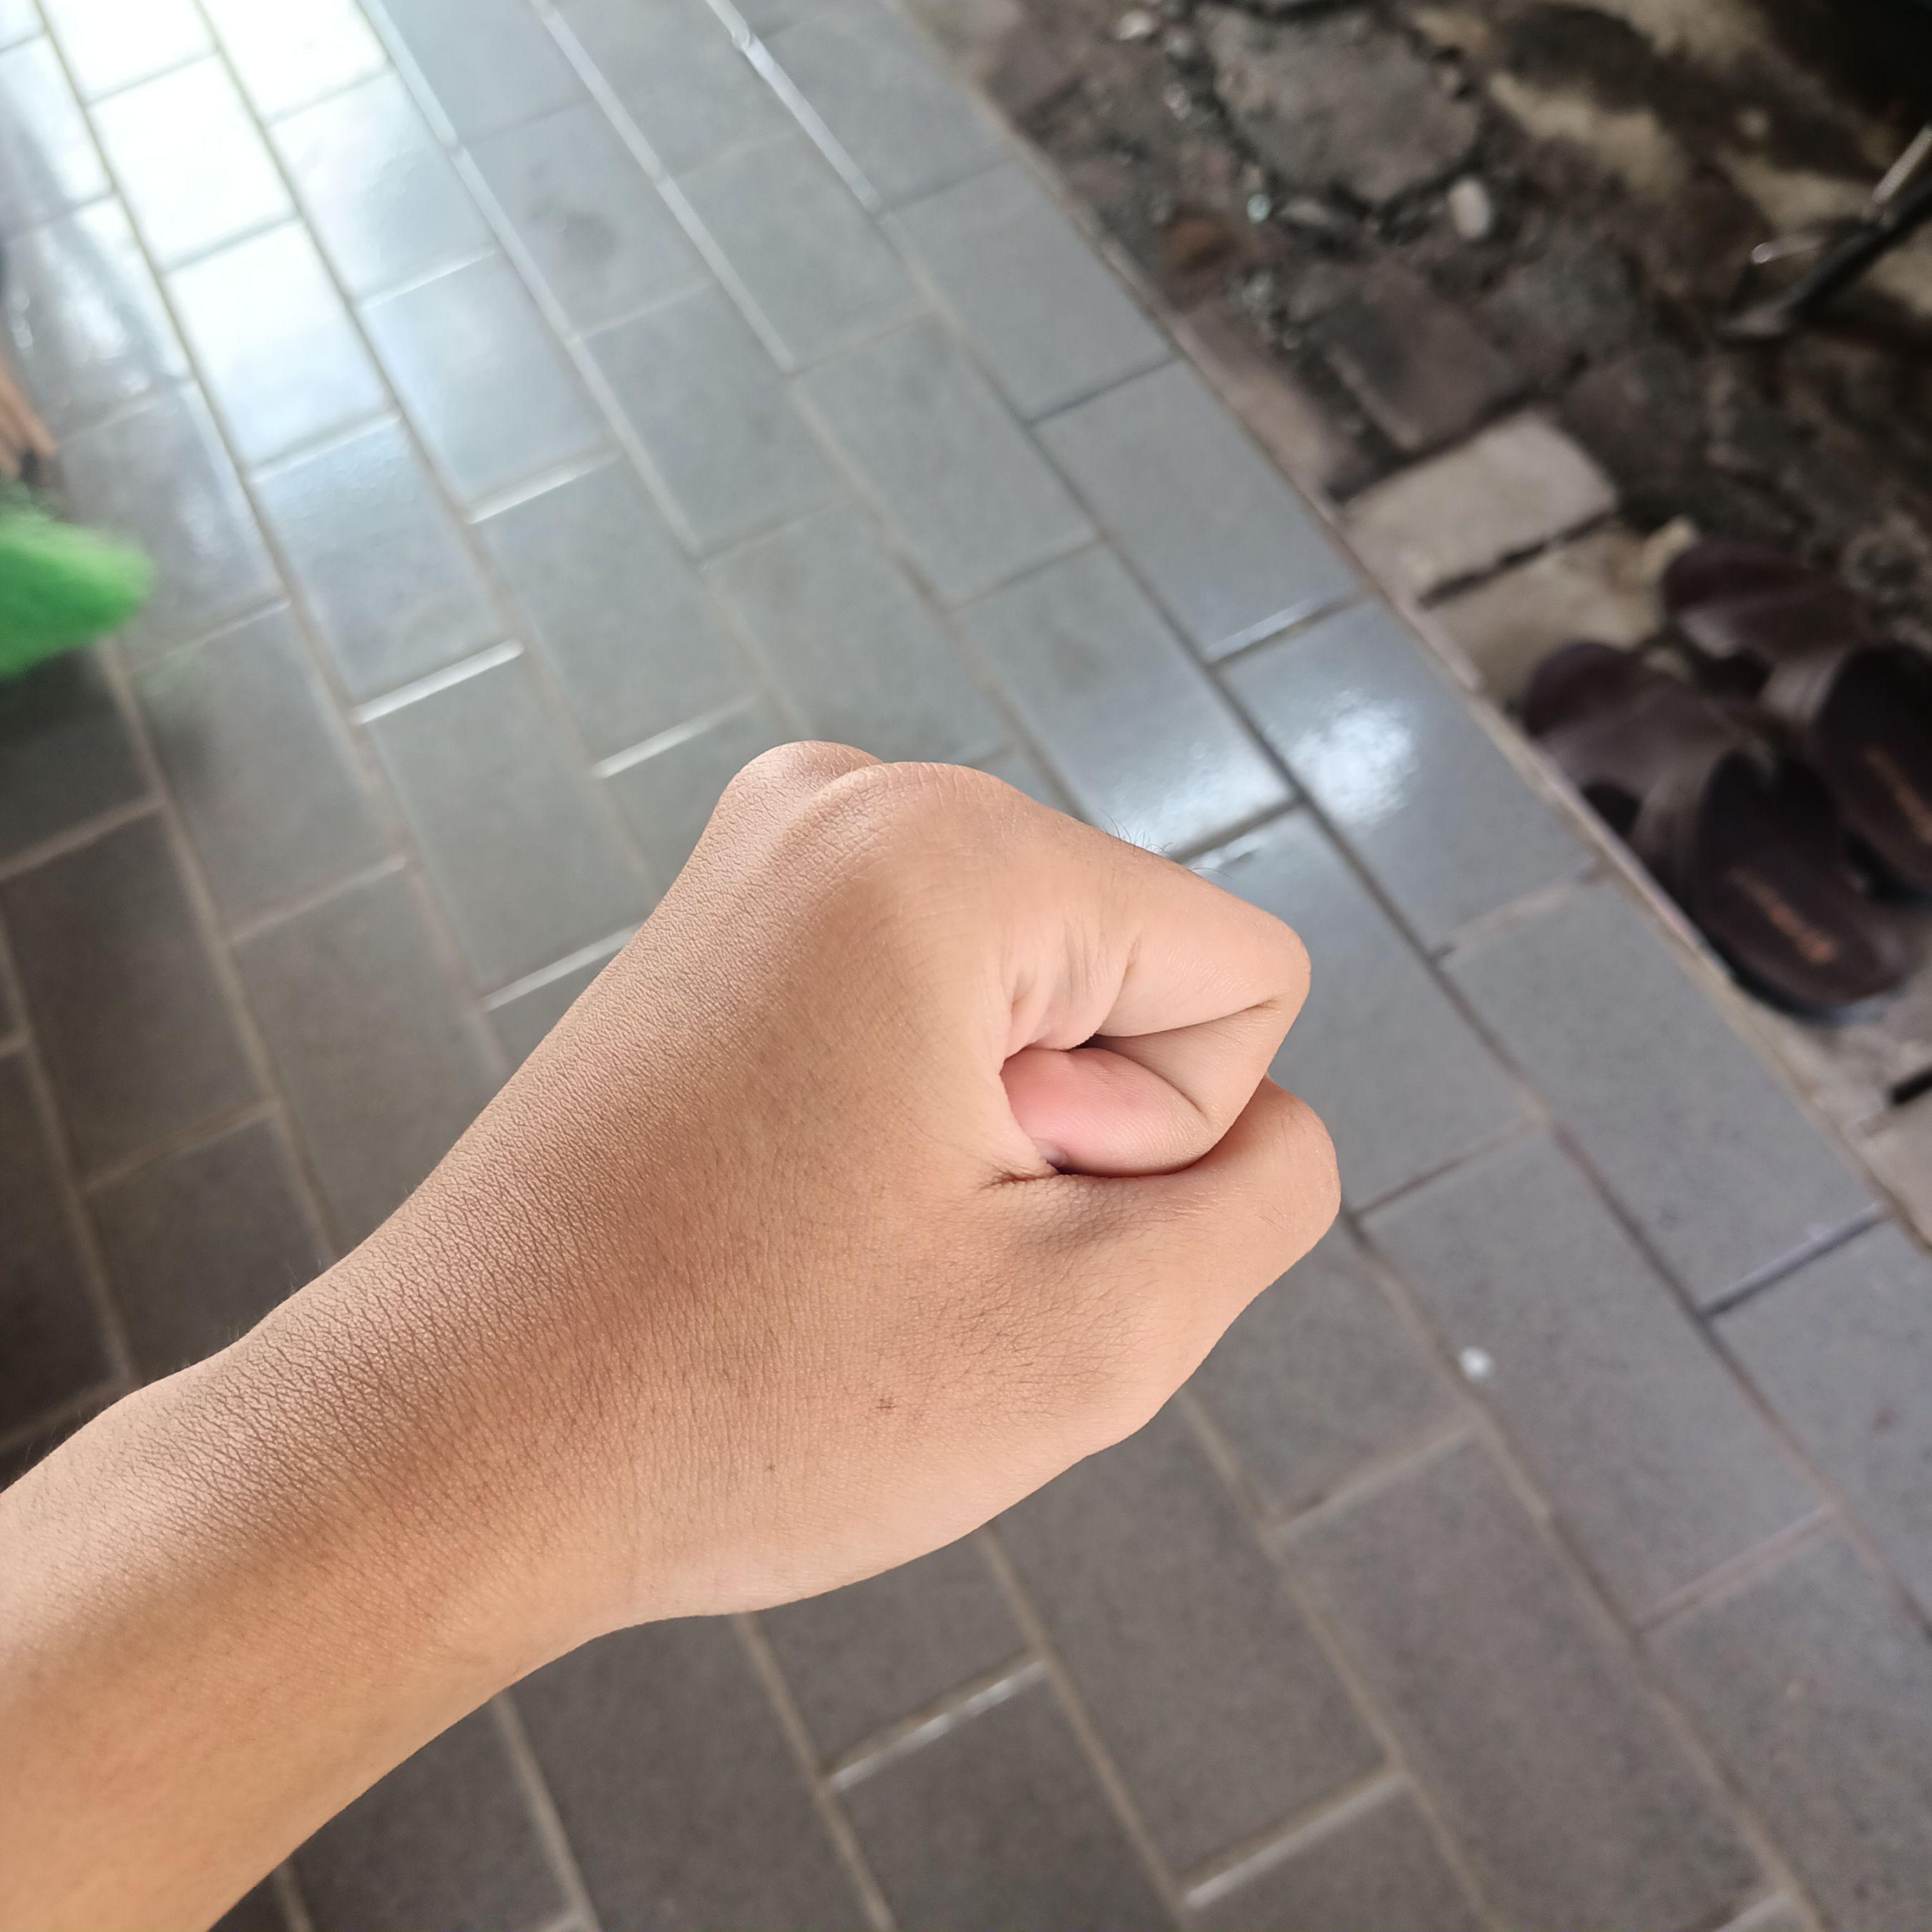rock: (347, 679, 1375, 1658)
